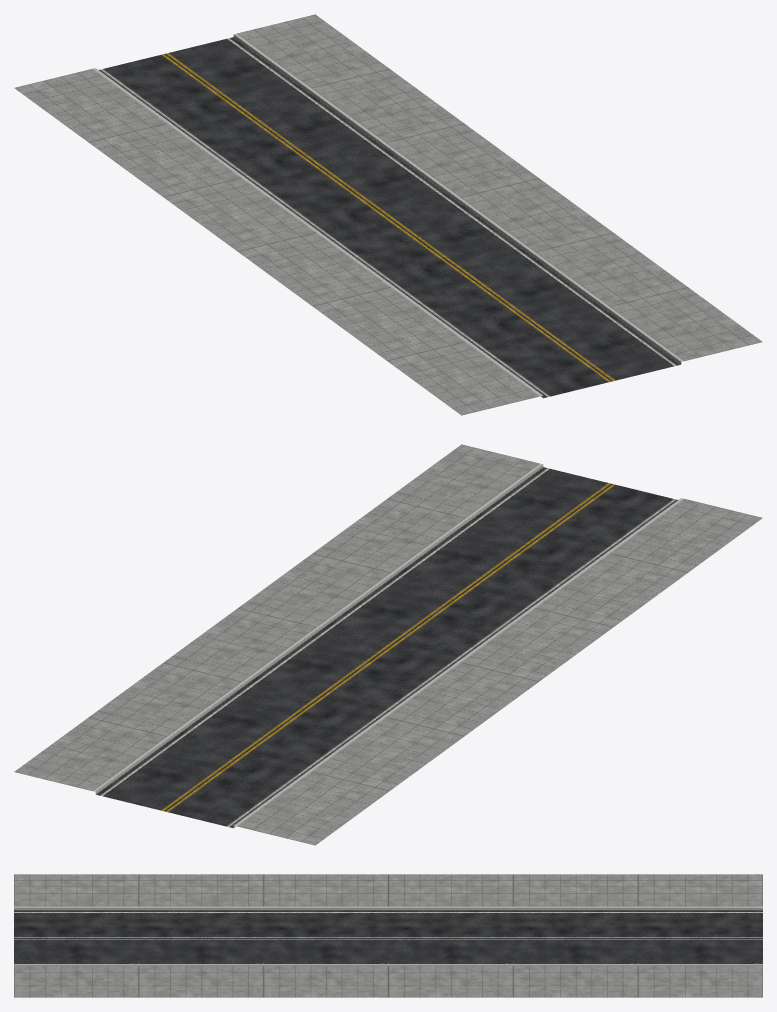
The model's file is calle.obj.
The picture shows the model from 3 angles, top to bottom: view 1: azimuth 30°, elevation 25°; view 2: azimuth 150°, elevation 25°; view 3: azimuth 270°, elevation 25°; orthographic projection. The views are drawn at different scales.
Visible parts, largest first — view 1: calle; view 2: calle; view 3: calle.
Part boxes in pixels (x1=…): calle: x1=14, y1=14, x2=762, y2=415; calle: x1=14, y1=444, x2=762, y2=845; calle: x1=14, y1=874, x2=762, y2=997.
Bounding box in the file's own units: 14 × 0.12 × 36.
Materials: 1 (1 with a texture image).
